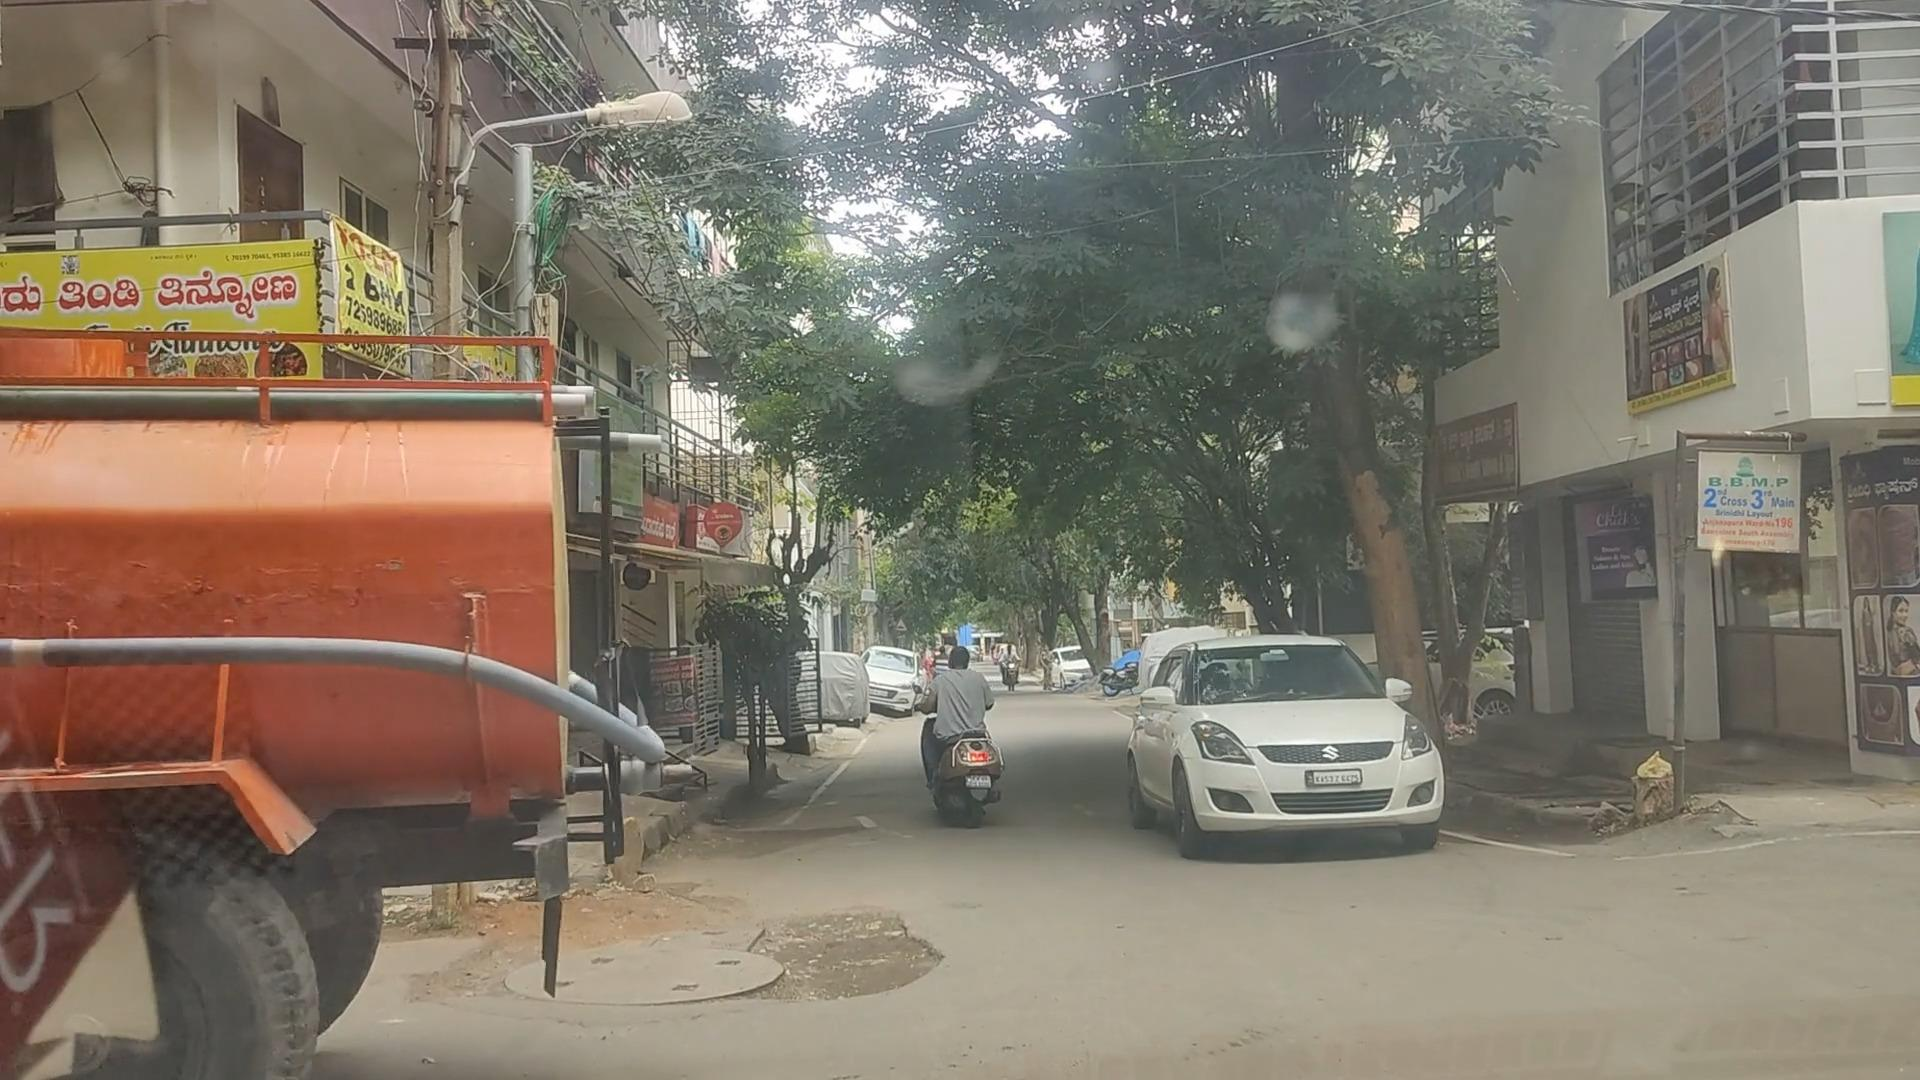HMV: (0, 305, 659, 1080)
LMV: (1113, 616, 1455, 878), (910, 600, 1031, 852)
RoadDamages: (521, 894, 960, 1013)
